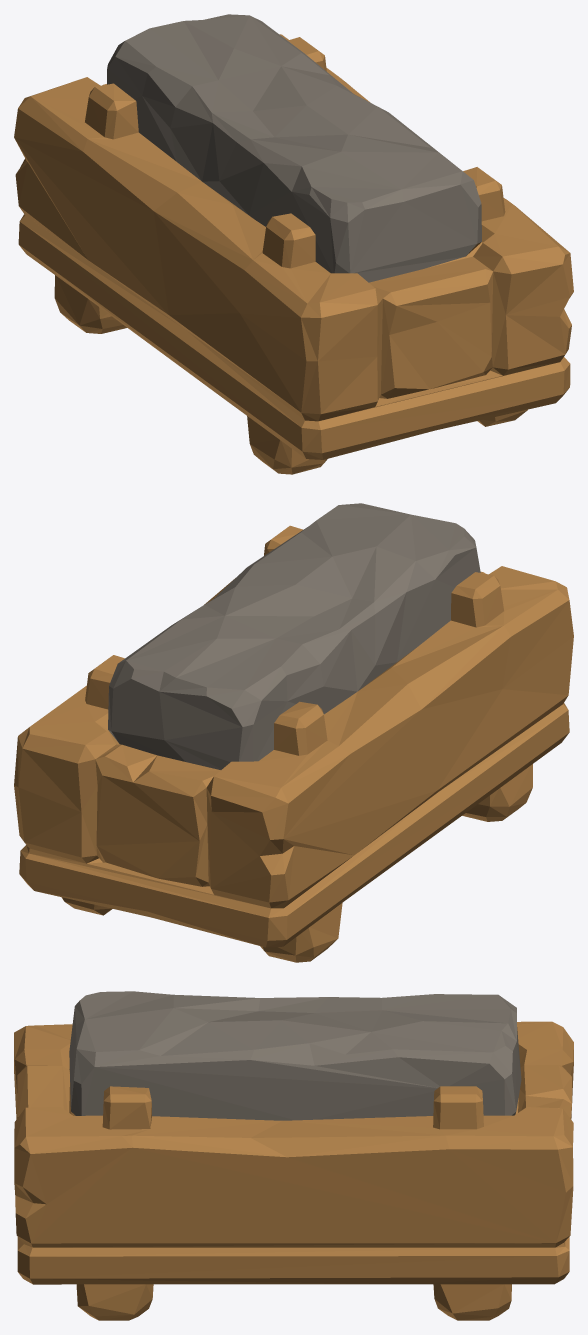
Rendered from SharpeningStone.fbx.
3 renders of one model, top to bottom at view 1: azimuth 30°, elevation 25°; view 2: azimuth 150°, elevation 25°; view 3: azimuth 270°, elevation 25°, orthographic. The views are drawn at different scales.
Visible parts, largest first — view 1: SharpeningStone; view 2: SharpeningStone; view 3: SharpeningStone.
Boxes of the visible parts, left/top/right/bottom form: SharpeningStone: left=14, top=14, right=573, bottom=474; SharpeningStone: left=14, top=503, right=573, bottom=962; SharpeningStone: left=14, top=991, right=573, bottom=1320.
Size of the model in its own units: 0.1471 by 0.282 by 0.1387.
